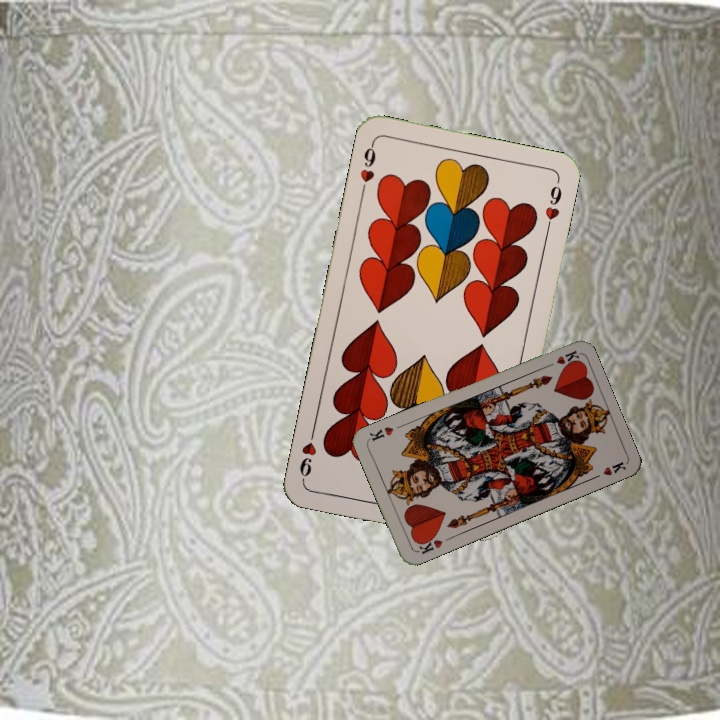H9: (356, 138, 379, 197)
HK: (541, 346, 581, 371), (413, 531, 445, 557)
